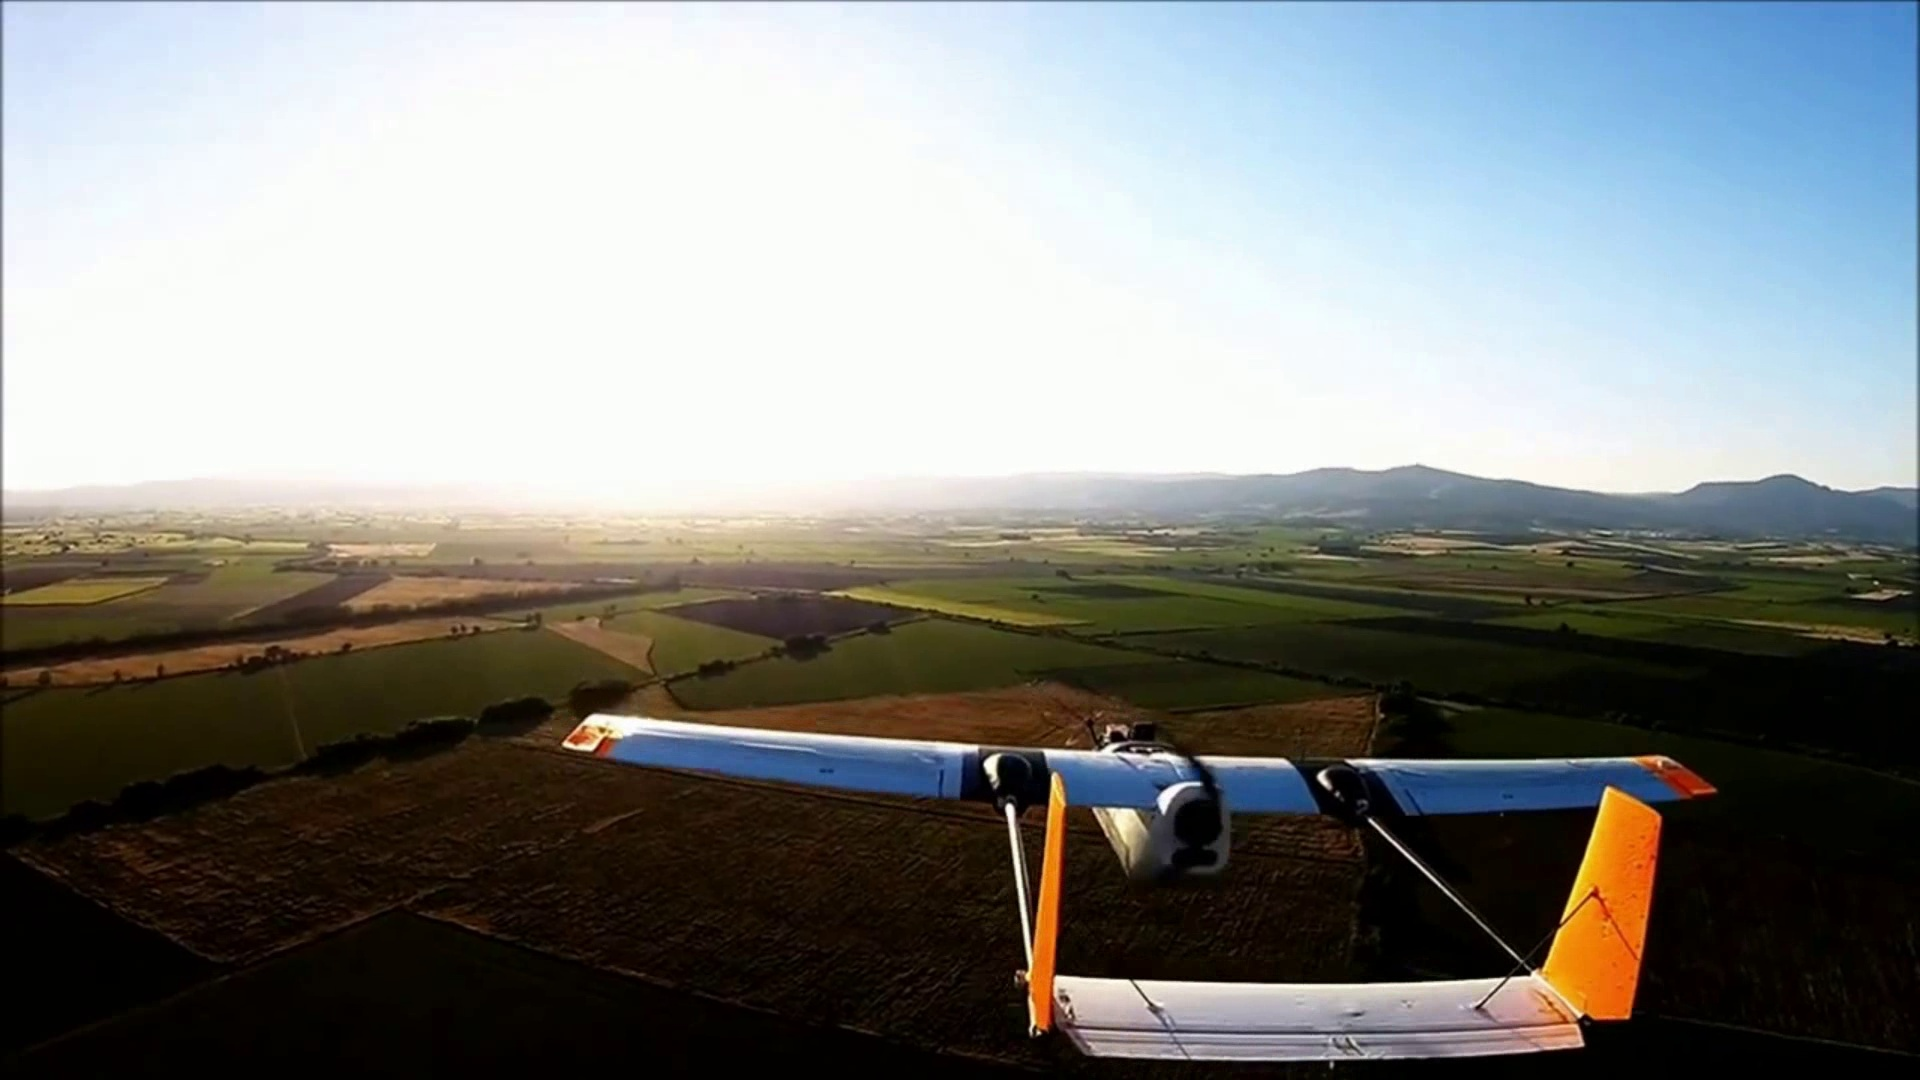airplane: (570, 727, 1731, 1056)
